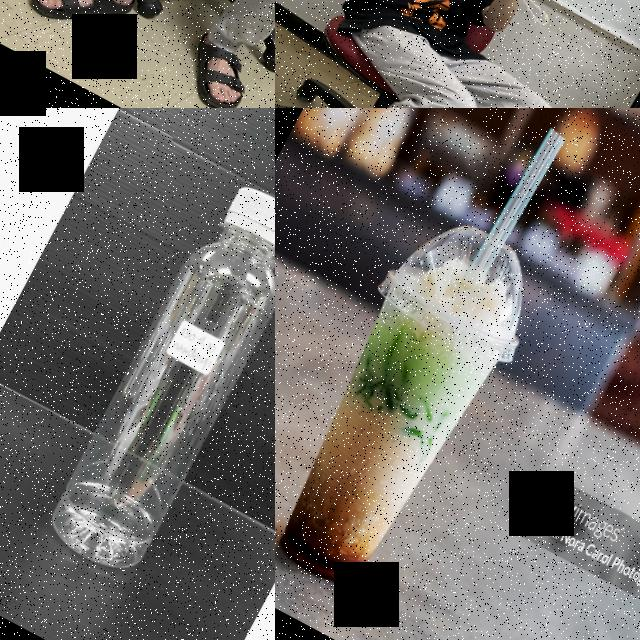bottle: (32, 172, 275, 589)
cup: (275, 197, 559, 610)
